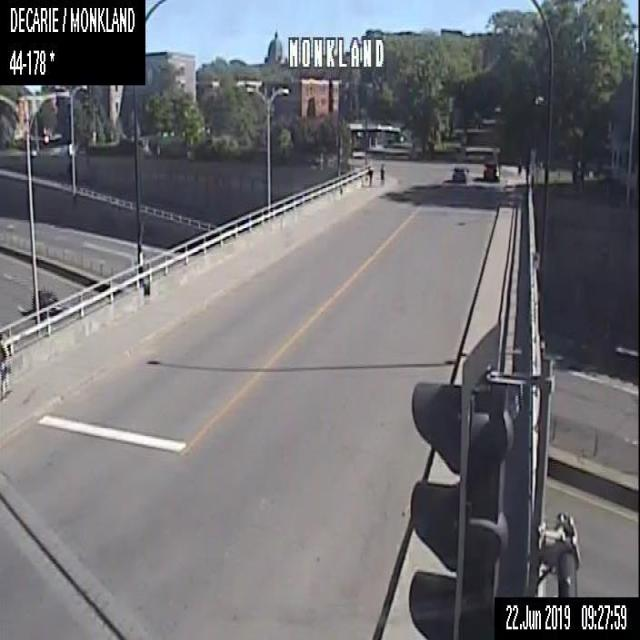pedestrian: (0, 331, 9, 397), (365, 159, 372, 185), (379, 160, 386, 185)
vehicle: (31, 286, 68, 314), (483, 161, 499, 180), (449, 166, 467, 182)
